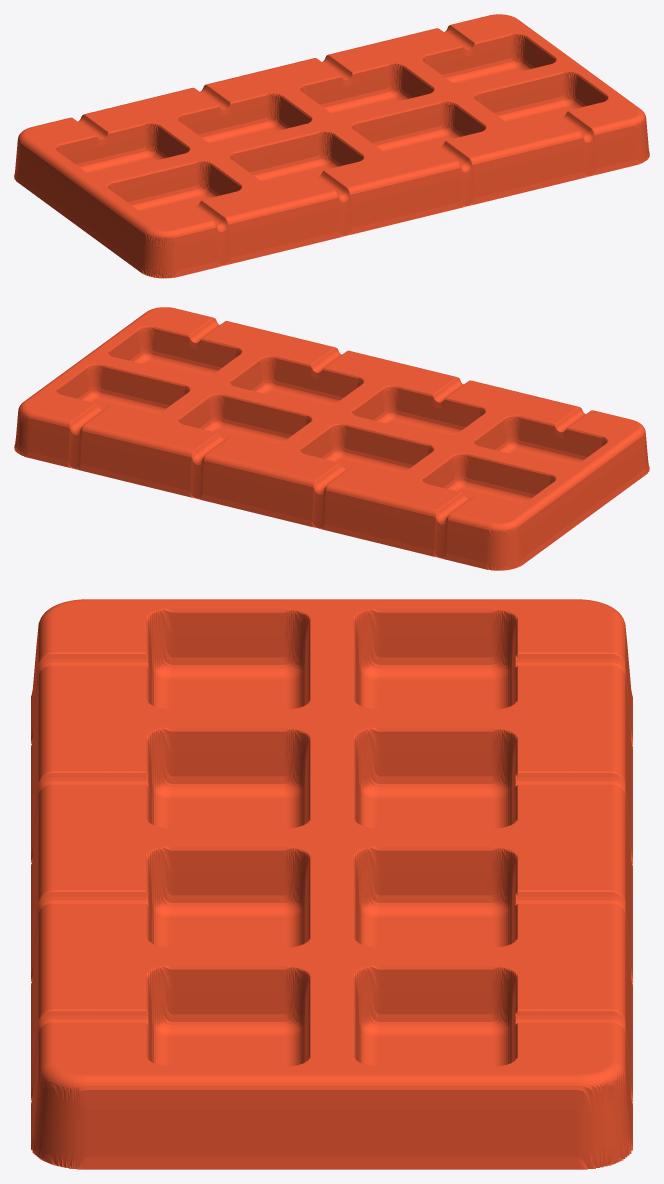
File: mold.glb
3 renders of one model, top to bottom at view 1: azimuth 30°, elevation 25°; view 2: azimuth 150°, elevation 25°; view 3: azimuth 270°, elevation 25°, orthographic. The views are drawn at different scales.
Visible parts, largest first — view 1: geometry_0; view 2: geometry_0; view 3: geometry_0.
Part boxes in pixels (left/top/right/bottom): geometry_0: left=14, top=14, right=649, bottom=278; geometry_0: left=14, top=307, right=649, bottom=570; geometry_0: left=31, top=599, right=632, bottom=1169.
Size of the model in its own units: 0.1907 by 0.0155 by 0.0986.
